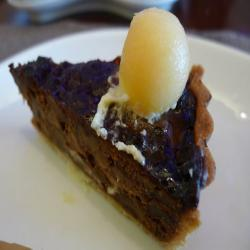apple_pie: (4, 53, 220, 248)
icecream: (104, 6, 201, 127)
